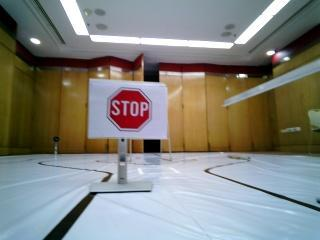stop: (92, 86, 167, 135)
